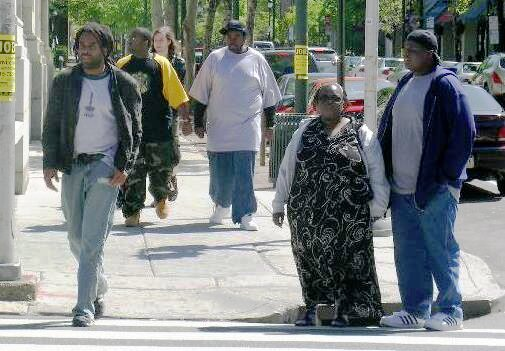person: (381, 26, 478, 336), (274, 78, 388, 332), (45, 17, 135, 321), (195, 17, 272, 239), (109, 26, 191, 230)
